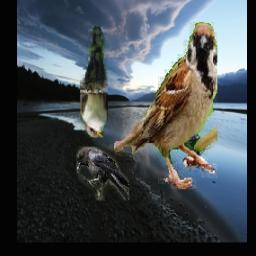Crow: (77, 146, 130, 201)
Cuckoo: (81, 27, 109, 139)
Sparrow: (115, 22, 218, 189)
